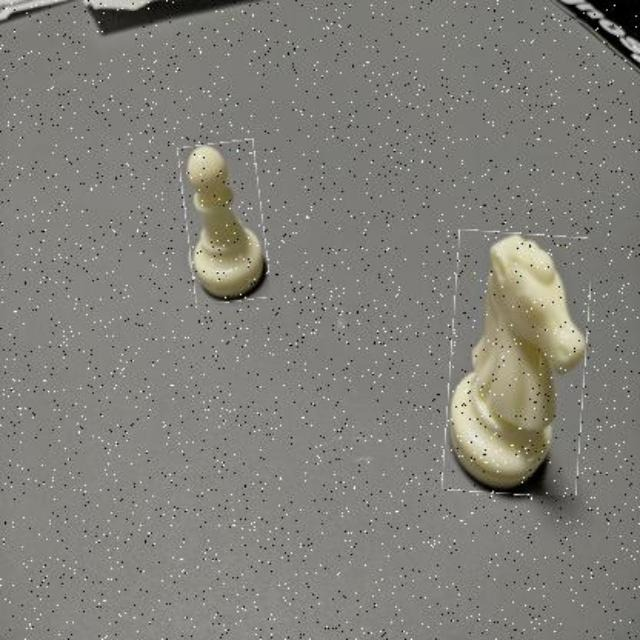white-knight: (446, 232, 589, 496)
white-pawn: (182, 140, 266, 303)
